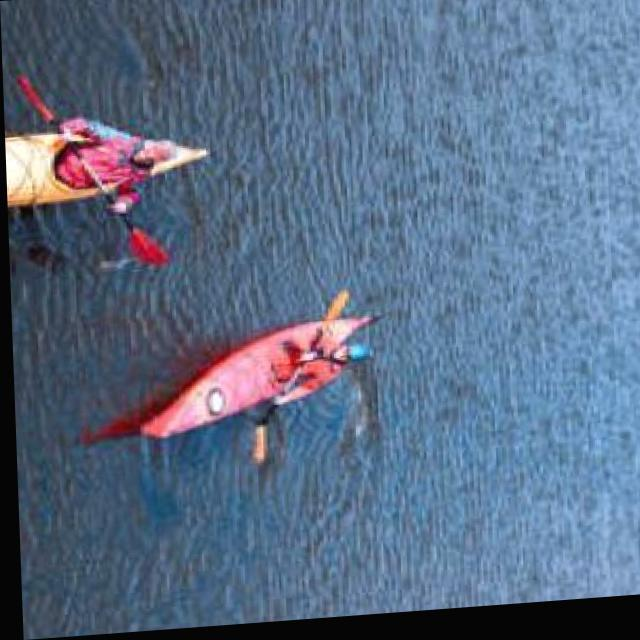kayak: (141, 330, 320, 438), (4, 134, 97, 204)
